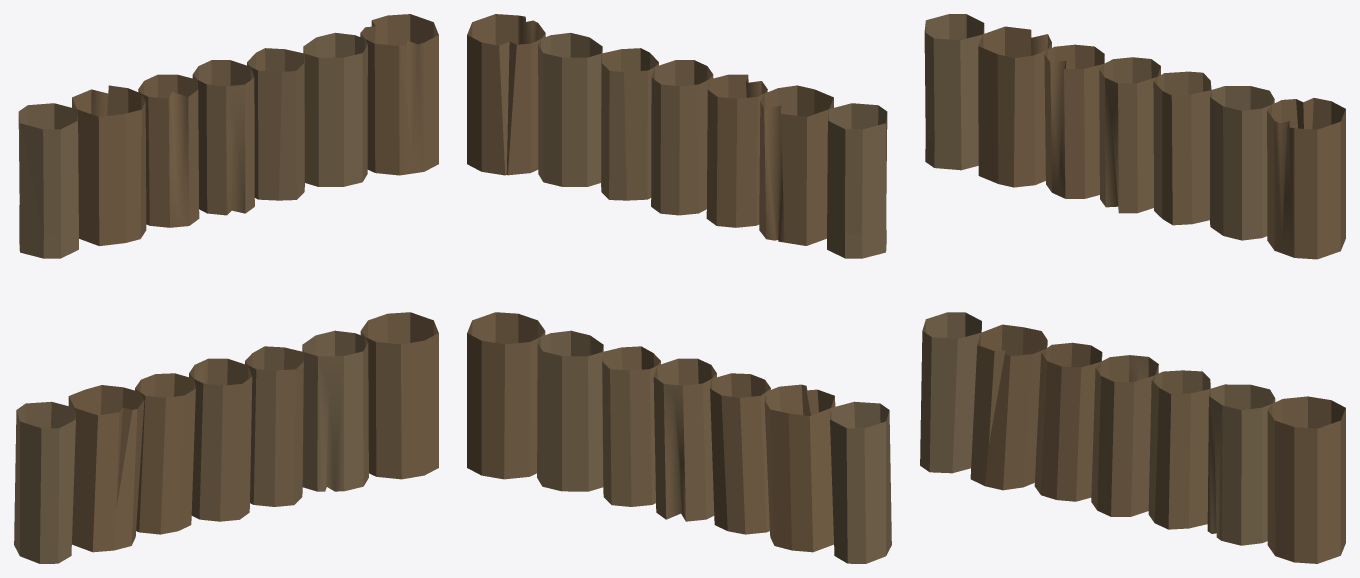
File: rpgpp_ag_wall_02_3x3_window_b.fbx
3 renders of one model, left to right at view 1: azimuth 30°, elevation 25°; view 2: azimuth 150°, elevation 25°; view 3: azimuth 330°, elevation 25°, orthographic.
Visible parts, largest first — view 1: rpgpp_ag_wall_02_3x3_window_b; view 2: rpgpp_ag_wall_02_3x3_window_b; view 3: rpgpp_ag_wall_02_3x3_window_b.
Boxes of the visible parts, x1,y1,x2,y2 form: rpgpp_ag_wall_02_3x3_window_b: (14,14,438,563); rpgpp_ag_wall_02_3x3_window_b: (467,14,891,563); rpgpp_ag_wall_02_3x3_window_b: (920,14,1345,563).
Size of the model in its own units: 3 by 3 by 0.4706.
